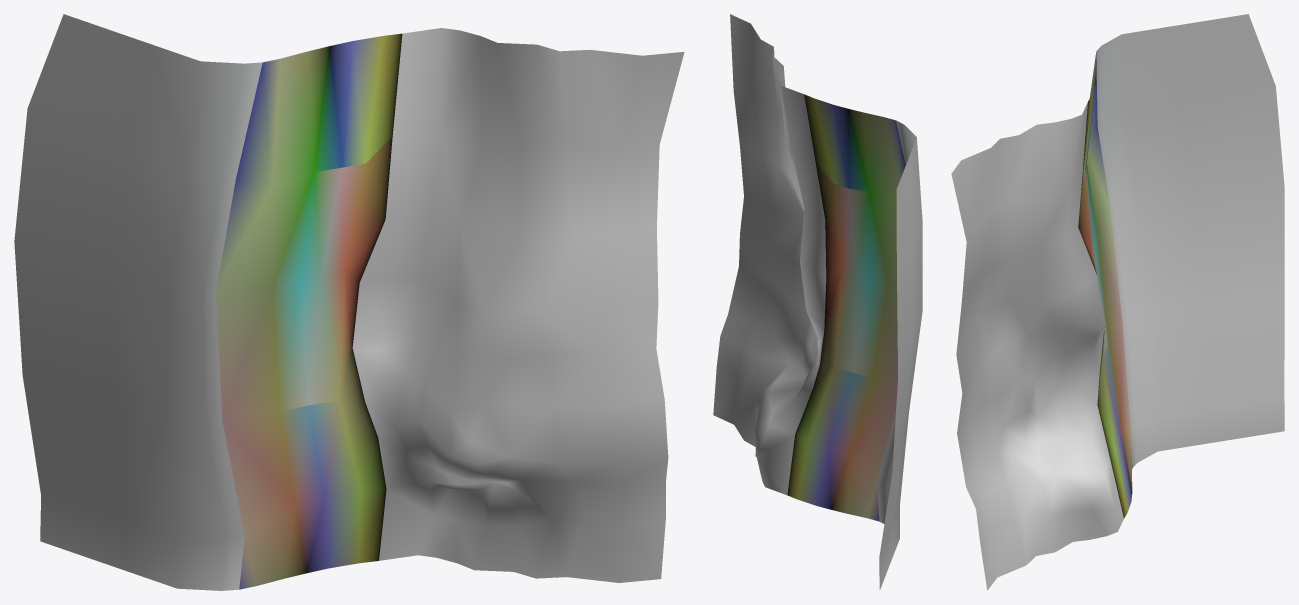
Rendered from Snow_RampStraightC_lod2.glb.
The picture shows the model from 3 angles, left to right: view 1: azimuth 30°, elevation 25°; view 2: azimuth 150°, elevation 25°; view 3: azimuth 270°, elevation 25°; orthographic projection. The views are drawn at different scales.
Parts seen in each view (by area): view 1: MeshNode_1, MeshNode_0; view 2: MeshNode_1, MeshNode_0; view 3: MeshNode_1, MeshNode_0.
Part boxes in pixels (x1=…): MeshNode_1: x1=14, y1=14, x2=684, y2=590; MeshNode_0: x1=216, y1=33, x2=402, y2=589; MeshNode_1: x1=713, y1=14, x2=922, y2=590; MeshNode_0: x1=787, y1=94, x2=905, y2=521; MeshNode_1: x1=951, y1=14, x2=1284, y2=590; MeshNode_0: x1=1078, y1=53, x2=1132, y2=518.
Size of the model in its own units: 111 by 128 by 92.65.
